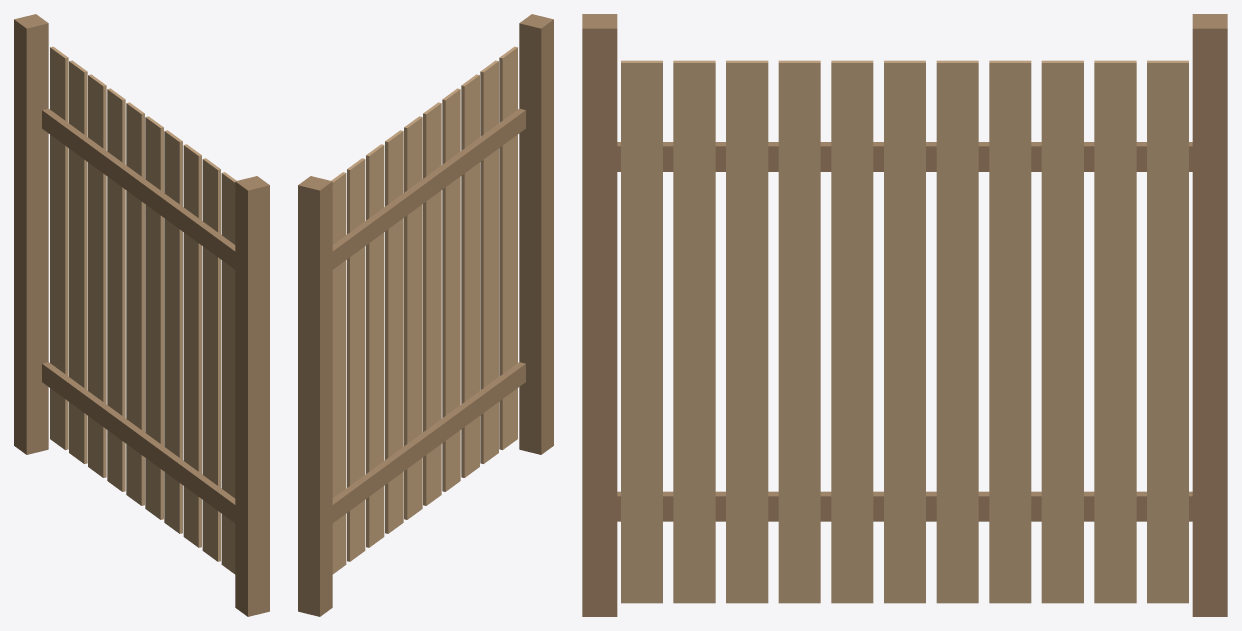
Rendered from fence_panel.glb.
The picture shows the model from 3 angles, left to right: view 1: azimuth 30°, elevation 25°; view 2: azimuth 150°, elevation 25°; view 3: azimuth 270°, elevation 25°; orthographic projection. The views are drawn at different scales.
Bounding box in the file's own units: 0.115 × 1.85 × 1.84.
